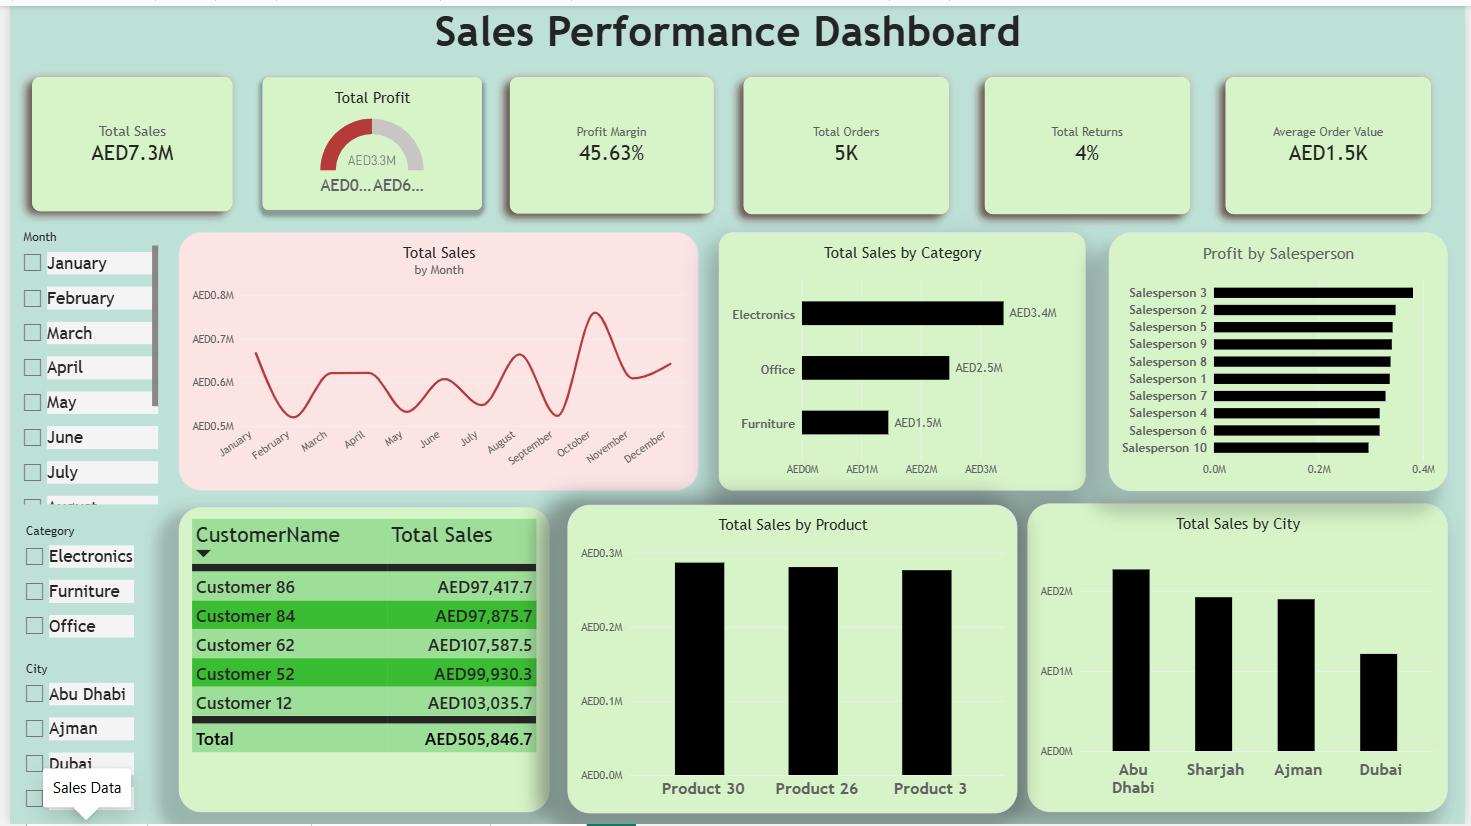

The dashboard page shown, as its layout file describes it:
{"tool":"powerbi","page":{"name":"Sales Data","canvas":[1920,1080],"ordinal":0},"visuals":[{"type":"cardVisual","fields":{"Data":["Measure Table.Total Sales"]},"box":[10.7,75,303.6,216.1],"z":0},{"type":"cardVisual","fields":{"Data":["Measure Table.Profit Margin"]},"box":[639.3,75,308.9,219.6],"z":2000},{"type":"cardVisual","fields":{"Data":["Measure Table.Total Orders","Measure Table.Total Returns","Measure Table.Average Order Value"]},"box":[948.9,74.1,946.8,220.2],"z":3000},{"type":"lineChart","fields":{"Category":["Date Table.Month"],"Y":["Measure Table.Total Sales"]},"box":[223.2,298.2,685.7,341.1],"z":6000},{"type":"barChart","title":"Total Sales by Category","fields":{"Category":["Products.Category"],"Y":["Measure Table.Total Sales"]},"box":[935.7,298.2,483.9,341.1],"z":7000},{"type":"clusteredColumnChart","fields":{"Category":["Customers.City"],"Y":["Measure Table.Total Sales"]},"box":[1342.6,656.4,554.2,407.4],"z":8000},{"type":"clusteredBarChart","fields":{"Category":["Salespersons.Salesperson"],"Y":["Sum(Orders.Profit)"]},"box":[1449.8,298.5,447,341.4],"z":9000},{"type":"tableEx","fields":{"Values":["Customers.CustomerName","Measure Table.Total Sales"]},"box":[222.7,661.4,489.9,402.4],"z":10000},{"type":"clusteredColumnChart","title":"Total Sales by Product","fields":{"Category":["Products.ProductName"],"Y":["Measure Table.Total Sales"]},"box":[735.6,658.1,593.8,407.4],"z":11000},{"type":"slicer","fields":{"Values":["Date Table.Month"]},"box":[10.7,294.6,185.7,362.5],"z":11002},{"type":"slicer","fields":{"Values":["Products.Category"]},"box":[12.5,682.1,150,178],"z":11003},{"type":"slicer","fields":{"Values":["Customers.City"]},"box":[12.5,864.3,150,216.1],"z":11004},{"type":"textbox","box":[196.4,0,1501.8,75],"z":11005},{"type":"gauge","fields":{"Y":["Measure Table.Total Profit"]},"box":[333.9,94.6,289.3,175],"z":11006}]}

Visuals, with their boxes on the page's 1920x1080 design canvas (x1, y1, x2, y2). These are canvas units, not pixel positions in the 1471x826 screenshot, which may show the page scaled, cropped or inside an application window:
cardVisual - Measure Table.Total Sales: (11, 75, 314, 291)
cardVisual - Measure Table.Profit Margin: (639, 75, 948, 295)
cardVisual - Measure Table.Total Orders x Measure Table.Total Returns: (949, 74, 1896, 294)
lineChart - Date Table.Month x Measure Table.Total Sales: (223, 298, 909, 639)
"Total Sales by Category" barChart: (936, 298, 1420, 639)
clusteredColumnChart - Customers.City x Measure Table.Total Sales: (1343, 656, 1897, 1064)
clusteredBarChart - Salespersons.Salesperson x Sum(Orders.Profit): (1450, 298, 1897, 640)
tableEx - Customers.CustomerName x Measure Table.Total Sales: (223, 661, 713, 1064)
"Total Sales by Product" clusteredColumnChart: (736, 658, 1329, 1066)
slicer - Date Table.Month: (11, 295, 196, 657)
slicer - Products.Category: (12, 682, 162, 860)
slicer - Customers.City: (12, 864, 162, 1080)
textbox: (196, 0, 1698, 75)
gauge - Measure Table.Total Profit: (334, 95, 623, 270)
